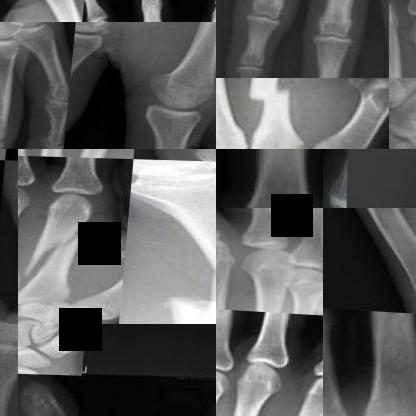fracture: (21, 217, 106, 278), (152, 276, 215, 324), (235, 78, 295, 126), (26, 400, 83, 415), (0, 337, 18, 377)
